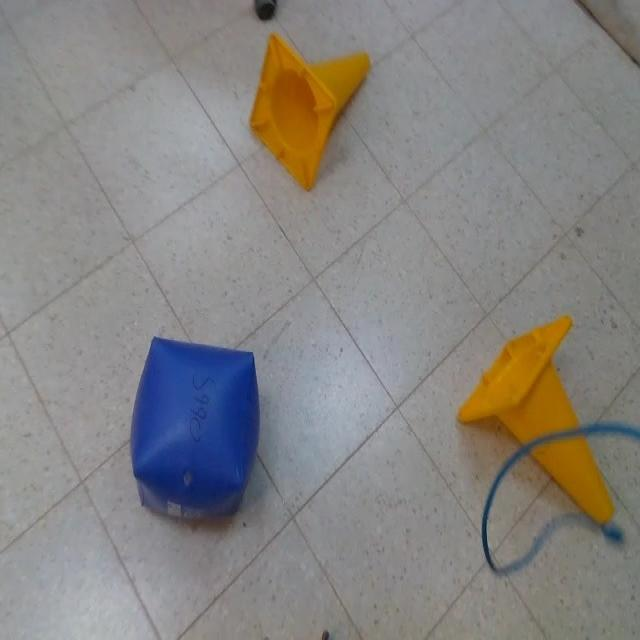cone: (458, 316, 620, 521), (246, 31, 374, 190)
cube: (129, 335, 261, 519)
